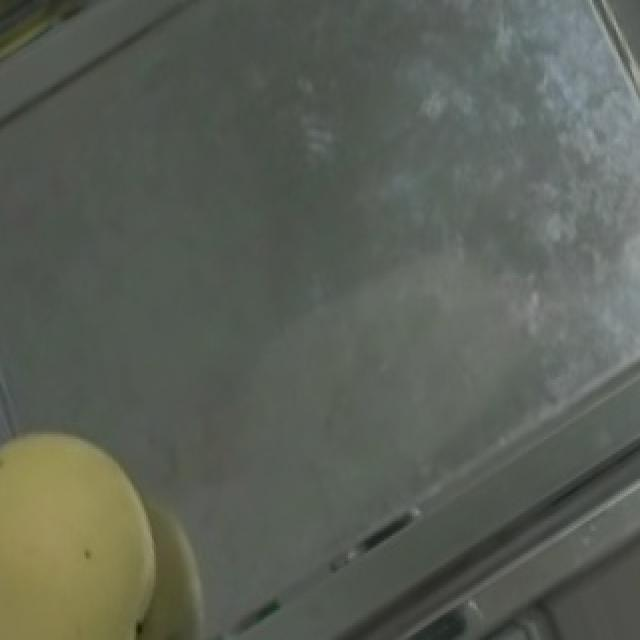Fruit: (0, 397, 196, 640)
